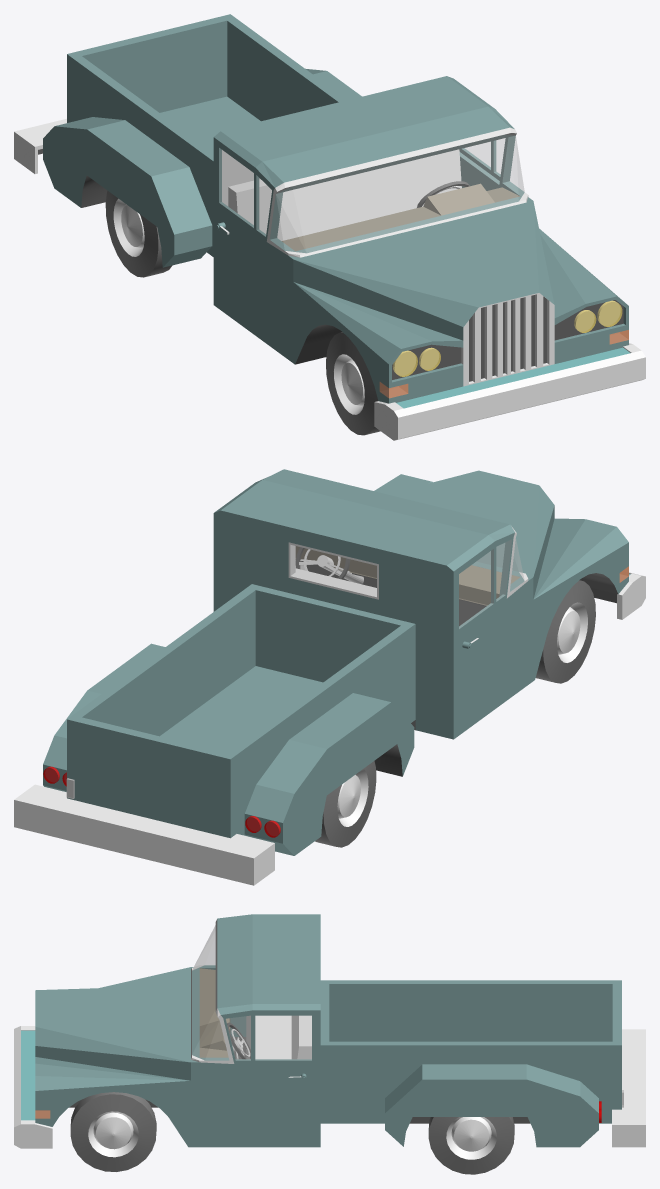
File: car.fbx
The picture shows the model from 3 angles, top to bottom: view 1: azimuth 30°, elevation 25°; view 2: azimuth 150°, elevation 25°; view 3: azimuth 270°, elevation 25°; orthographic projection. The views are drawn at different scales.
Visible parts, largest first — view 1: Component#1_004; view 2: Component#1_004; view 3: Component#1_004.
Part boxes in pixels (x1,y1,x2,y2): Component#1_004: (14,14,645,440); Component#1_004: (14,469,645,885); Component#1_004: (14,914,645,1174).
Bounding box in the file's own units: 125 × 99.39 × 331.
